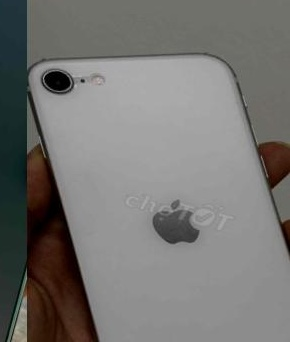scratch: (139, 191, 211, 251), (36, 61, 79, 98)
